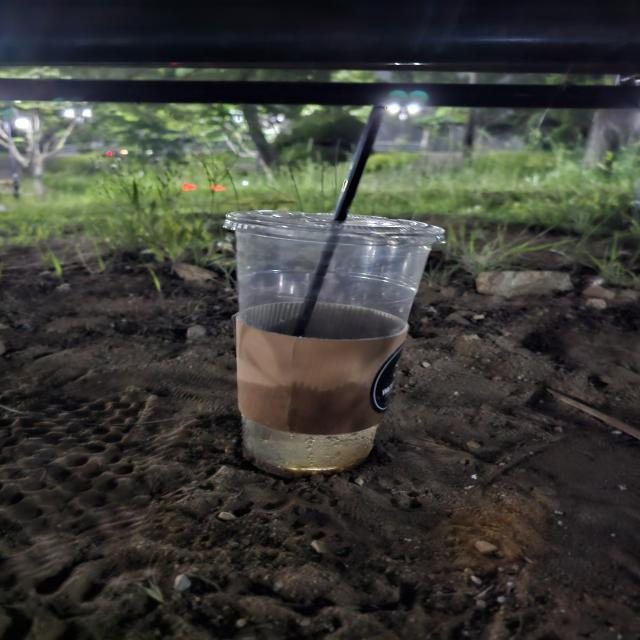cup: (209, 204, 452, 482)
